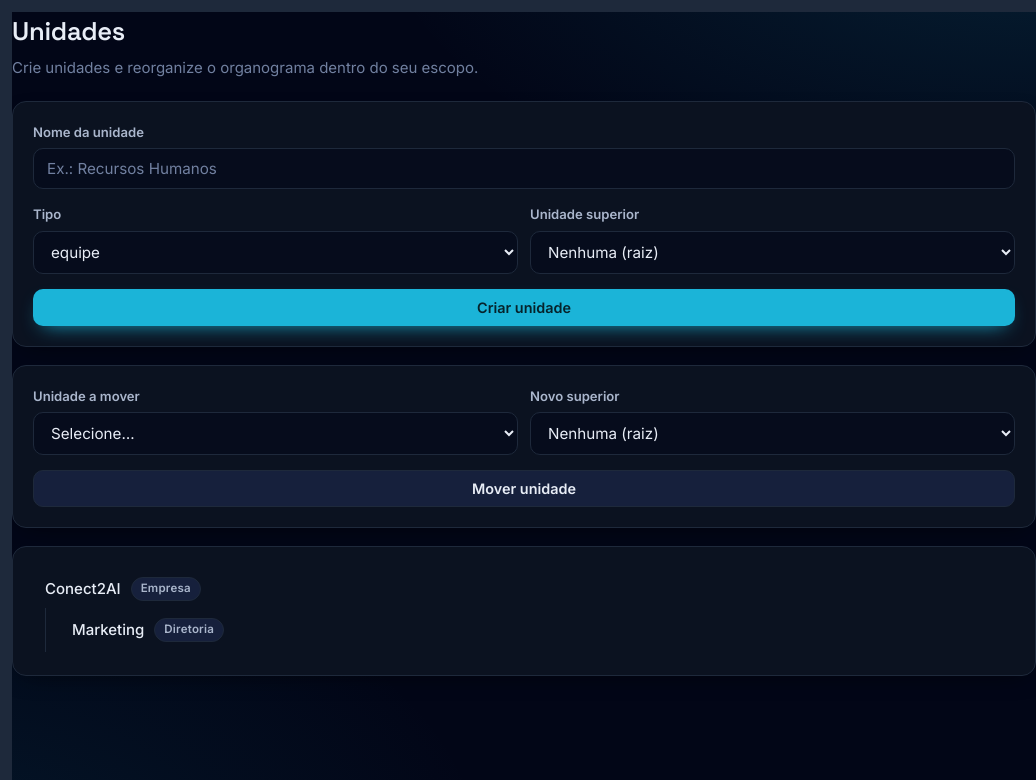
Test: PaginaUnidades › cria uma unidade via POST /organograma e recarrega
This screenshot has width=1036, height=780.
Expected: the text "Marketing" is shown, [72,618,144,641]
Type "Vendas" into the field labelled "Nome da unidade" at coordinates (524, 169), box [33,148,1015,189]
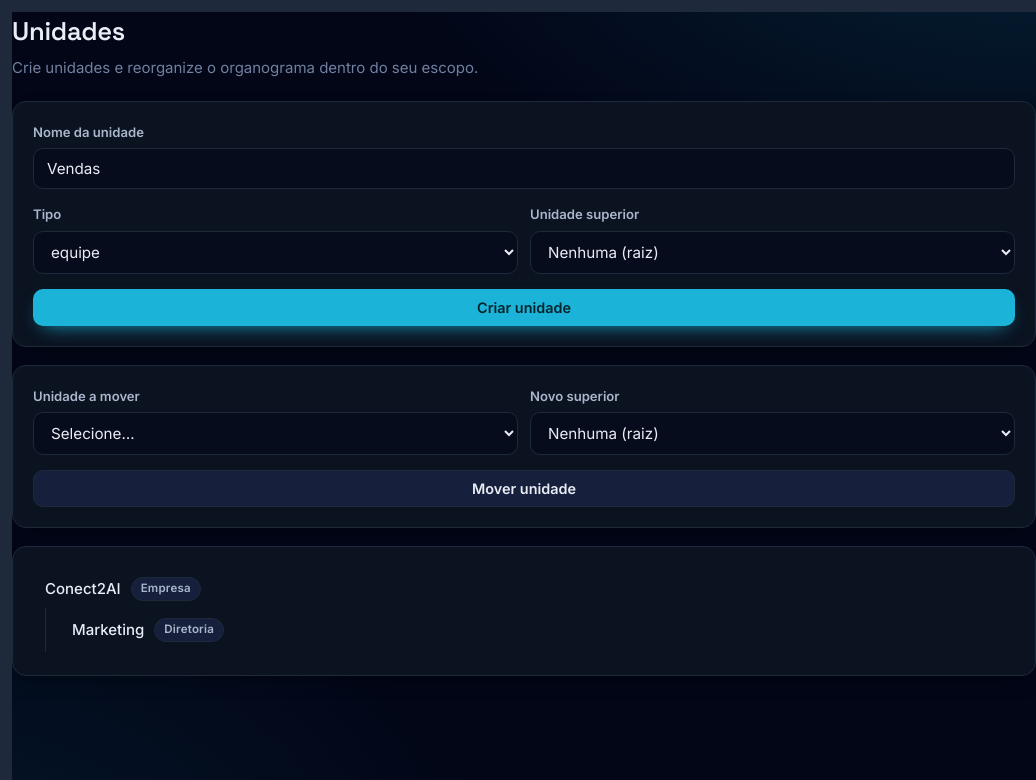
Select "equipe" in the dropdown labelled "Tipo" at coordinates (276, 252), box [33,231,518,274]
Select "Conect2AI" in the dropdown labelled "Unidade superior" at coordinates (772, 252), box [530,231,1015,274]
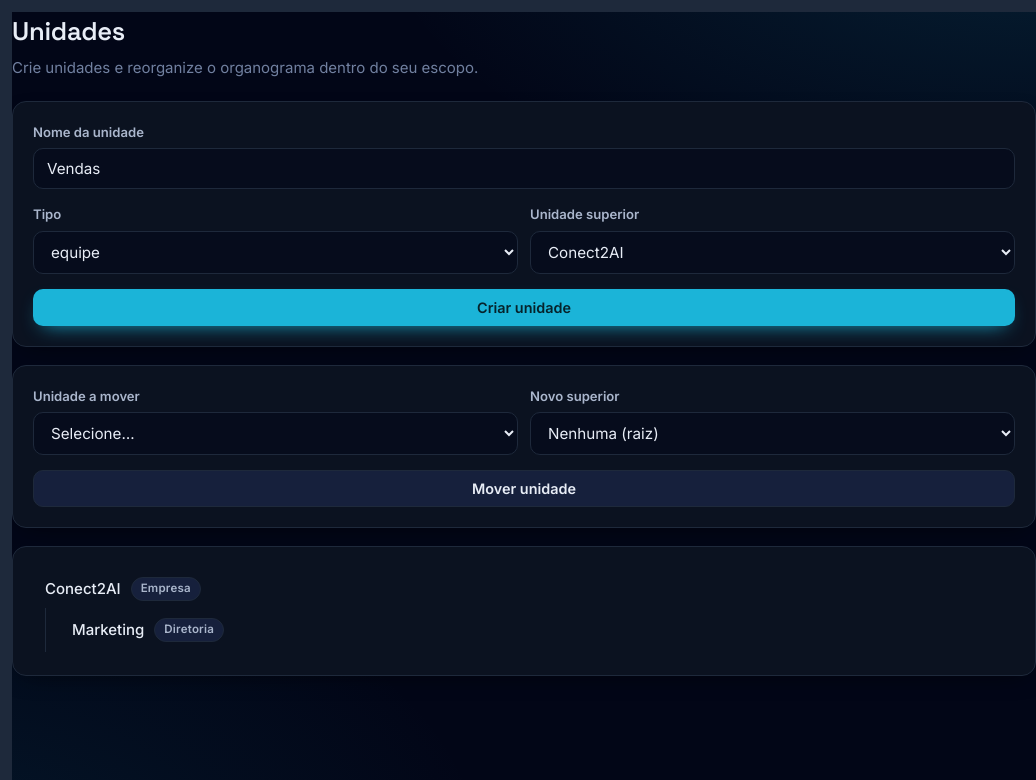
Click the button "Criar unidade" at coordinates (524, 307), box [33,289,1015,326]
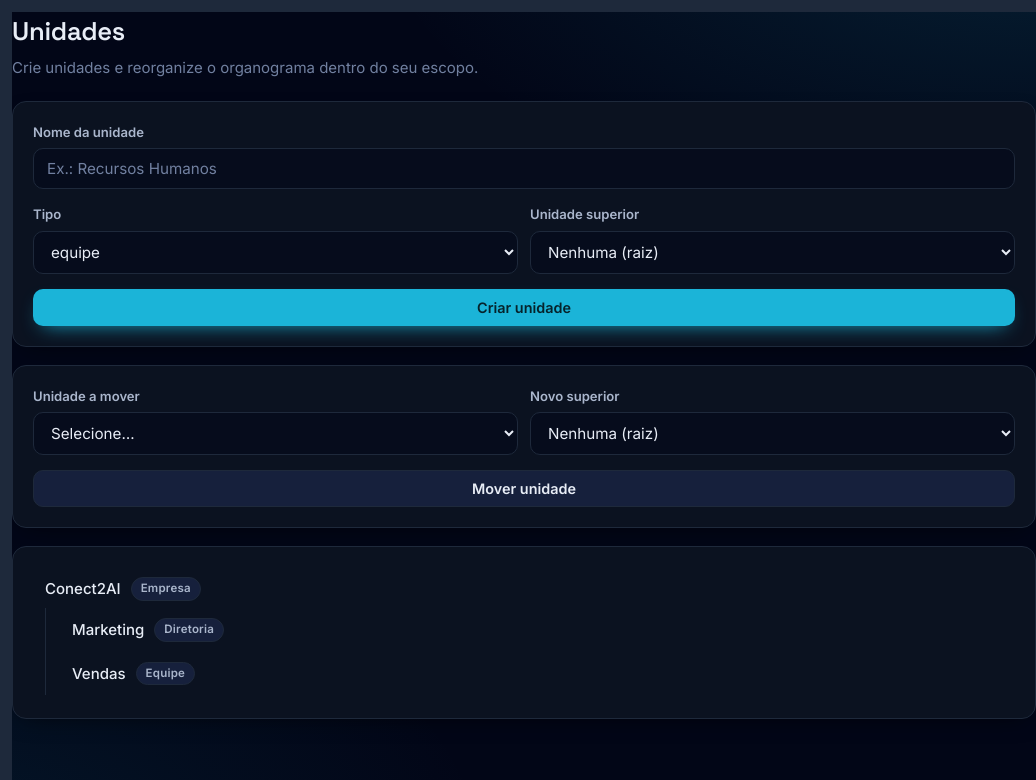
Now the text "Vendas" is shown, box [72,662,126,685]
